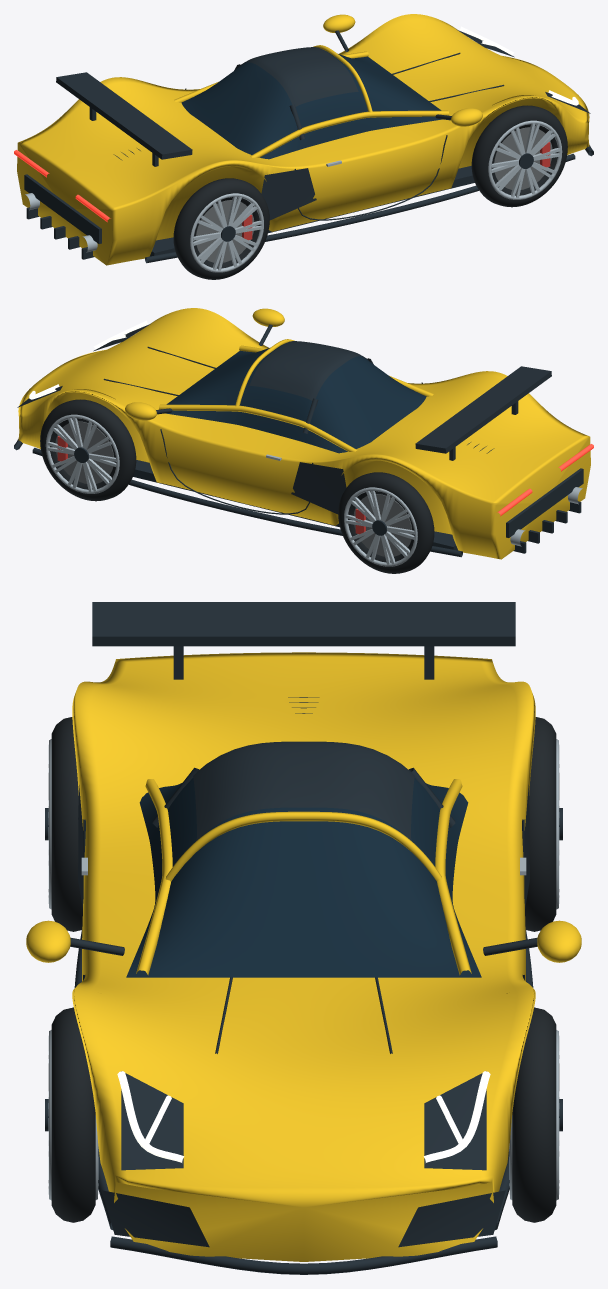
File: car09.glb
3 views of the same model, one above another, from view 1: azimuth 30°, elevation 25°; view 2: azimuth 150°, elevation 25°; view 3: azimuth 270°, elevation 25° (orthographic). The views are drawn at different scales.
Parts seen in each view (by area): view 1: continuous-sculpted-body, CAR09, curved-windows, roof-panel; view 2: continuous-sculpted-body, CAR09, curved-windows, roof-panel; view 3: continuous-sculpted-body, CAR09, curved-windows, roof-panel.
Part boxes in pixels (x1=…): continuous-sculpted-body: x1=17, y1=14, x2=589, y2=265; CAR09: x1=14, y1=14, x2=593, y2=279; curved-windows: x1=181, y1=50, x2=442, y2=159; roof-panel: x1=239, y1=47, x2=358, y2=106; continuous-sculpted-body: x1=18, y1=308, x2=590, y2=559; CAR09: x1=14, y1=308, x2=593, y2=573; curved-windows: x1=165, y1=344, x2=426, y2=453; roof-panel: x1=249, y1=341, x2=368, y2=400; continuous-sculpted-body: x1=72, y1=652, x2=535, y2=1261; CAR09: x1=26, y1=602, x2=581, y2=1274; curved-windows: x1=126, y1=778, x2=481, y2=977; roof-panel: x1=193, y1=741, x2=414, y2=840.
Size of the model in its own units: 4.72 by 1.26 by 2.22.
